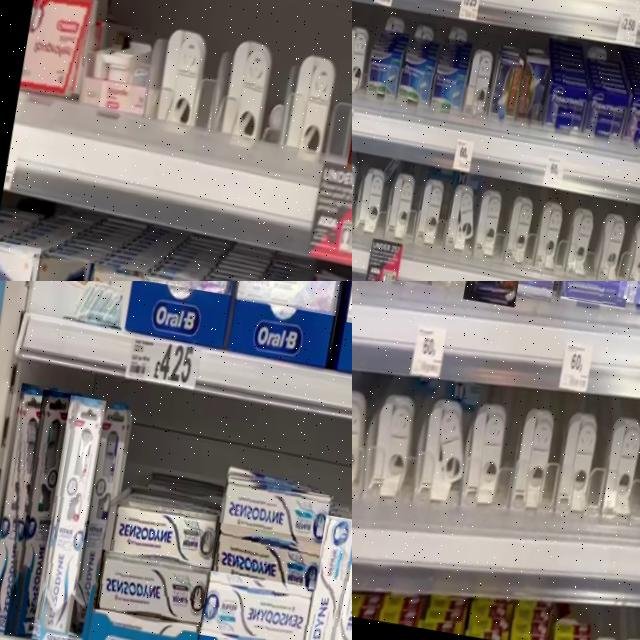Other: (486, 47, 529, 123), (579, 86, 630, 146), (543, 81, 595, 135), (513, 57, 552, 123), (425, 64, 467, 122), (557, 281, 638, 311), (13, 252, 94, 281), (392, 58, 437, 106), (460, 281, 533, 307), (0, 239, 41, 281), (365, 53, 403, 98), (620, 94, 640, 144)
Toothbrush: (27, 394, 108, 640), (0, 389, 76, 640), (59, 399, 135, 640), (0, 382, 50, 621)
Toothpaste: (206, 522, 326, 606), (89, 548, 211, 628), (216, 478, 332, 552), (195, 569, 315, 640), (106, 498, 218, 573), (292, 514, 352, 640), (234, 281, 344, 316), (321, 522, 352, 640), (131, 281, 241, 296)
